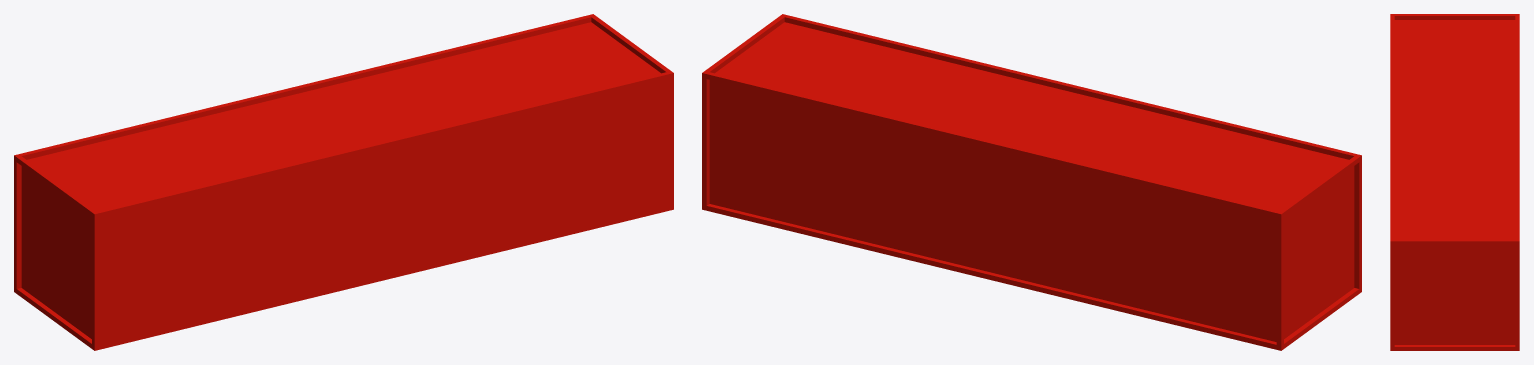
File: container.dae
3 views of the same model, side by side, from view 1: azimuth 30°, elevation 25°; view 2: azimuth 150°, elevation 25°; view 3: azimuth 270°, elevation 25° (orthographic). The views are drawn at different scales.
Parts seen in each view (by area): view 1: coords_ME_ID3_MA_Container, coords_ME_ID11_MA_Container; view 2: coords_ME_ID11_MA_Container, coords_ME_ID3_MA_Container; view 3: coords_ME_ID11_MA_Container, coords_ME_ID3_MA_Container.
Boxes of the visible parts, x1,y1,x2,y2 form: coords_ME_ID3_MA_Container: [14, 14, 673, 350]; coords_ME_ID11_MA_Container: [16, 17, 665, 343]; coords_ME_ID11_MA_Container: [706, 17, 1359, 344]; coords_ME_ID3_MA_Container: [702, 14, 1361, 350]; coords_ME_ID11_MA_Container: [1394, 16, 1515, 346]; coords_ME_ID3_MA_Container: [1390, 14, 1519, 350].
Bounding box in the file's own units: 122 × 27.5 × 29.4.
